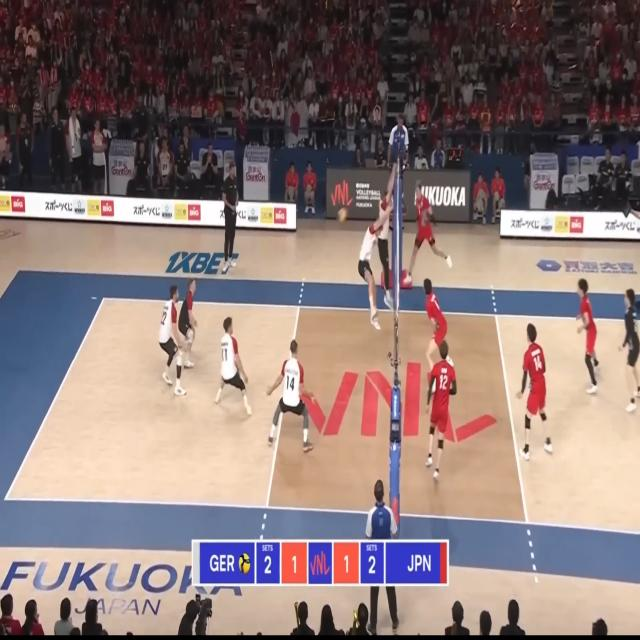ball: (338, 209, 346, 221)
